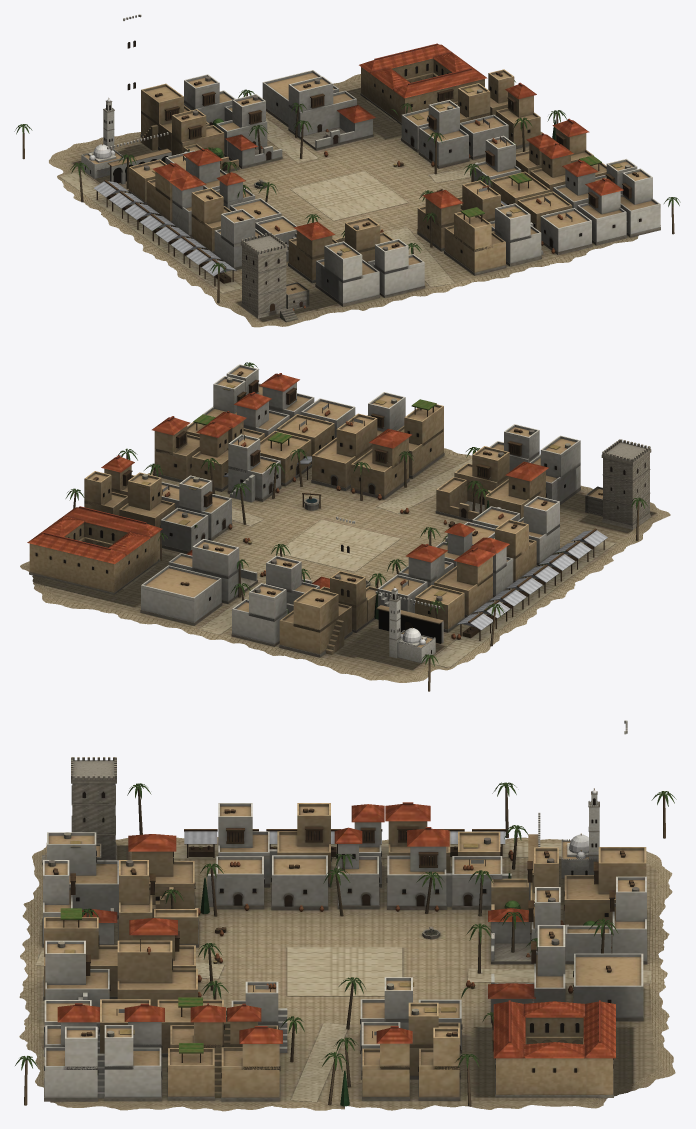
File: kingdoms-town-big-b.glb
The picture shows the model from 3 angles, top to bottom: view 1: azimuth 30°, elevation 25°; view 2: azimuth 150°, elevation 25°; view 3: azimuth 270°, elevation 25°; orthographic projection. The views are drawn at different scales.
Parts seen in each view (by area): view 1: LOD0; view 2: LOD0; view 3: LOD0.
Boxes of the visible parts, x1,y1,x2,y2 form: LOD0: (14, 14, 680, 327); LOD0: (20, 362, 670, 691); LOD0: (15, 720, 676, 1111).
Size of what is drawn, in the model's own units: 8.13 by 2.35 by 8.12.
3 materials, 3 textured.
